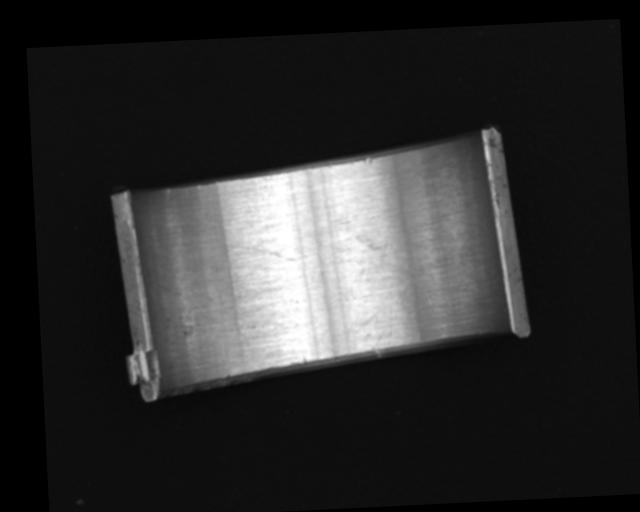blot: (353, 230, 410, 279)
bruise: (364, 156, 374, 165)
nick: (164, 187, 171, 202)
